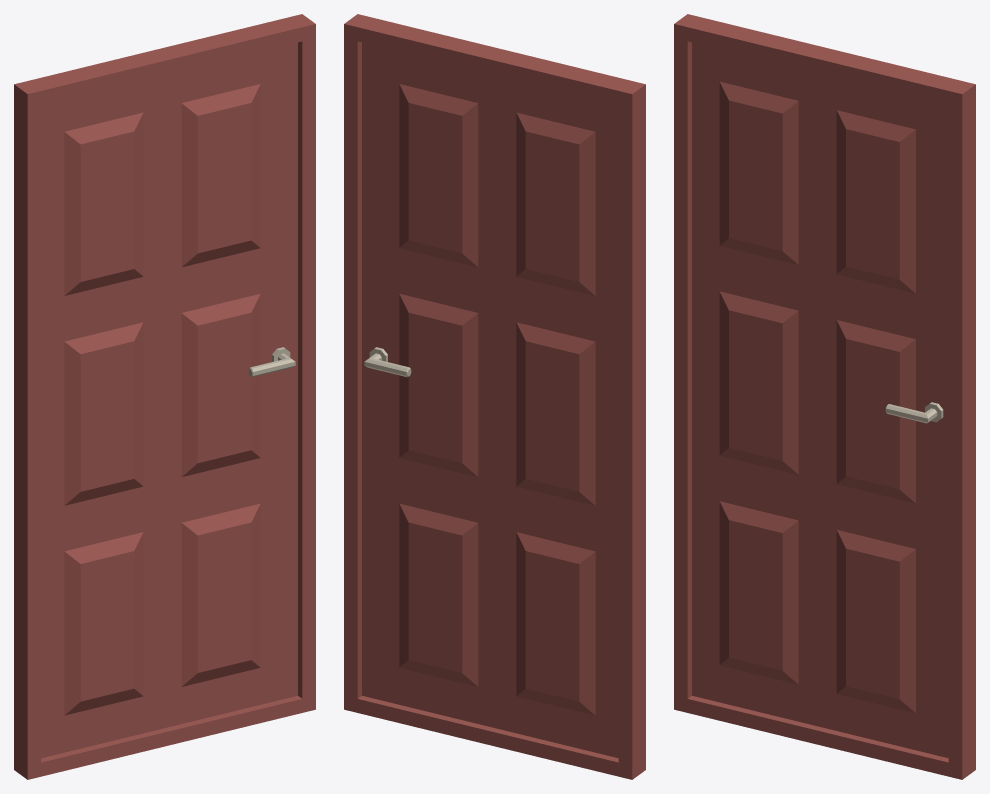
The model's file is Mesh_Door_A10.fbx.
The picture shows the model from 3 angles, left to right: view 1: azimuth 30°, elevation 25°; view 2: azimuth 150°, elevation 25°; view 3: azimuth 330°, elevation 25°; orthographic projection.
Visible parts, largest first — view 1: Mesh_Door_A10; view 2: Mesh_Door_A10; view 3: Mesh_Door_A10.
Part boxes in pixels (box(x1,y1,x2,y2)): Mesh_Door_A10: box(14, 14, 315, 779); Mesh_Door_A10: box(344, 14, 645, 779); Mesh_Door_A10: box(674, 14, 975, 779).
Size of the model in its own units: 0.9 by 2.05 by 0.1482.
